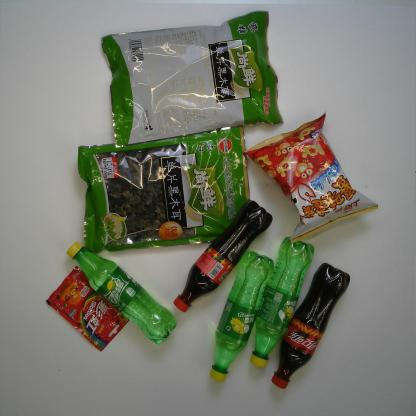Candy: (45, 265, 130, 352)
Dried Food: (99, 9, 285, 149), (76, 124, 251, 255)
Drink: (172, 198, 274, 314), (66, 241, 178, 346), (271, 260, 351, 390), (208, 250, 276, 383), (249, 235, 316, 369)
Puffed Food: (244, 110, 380, 244)
